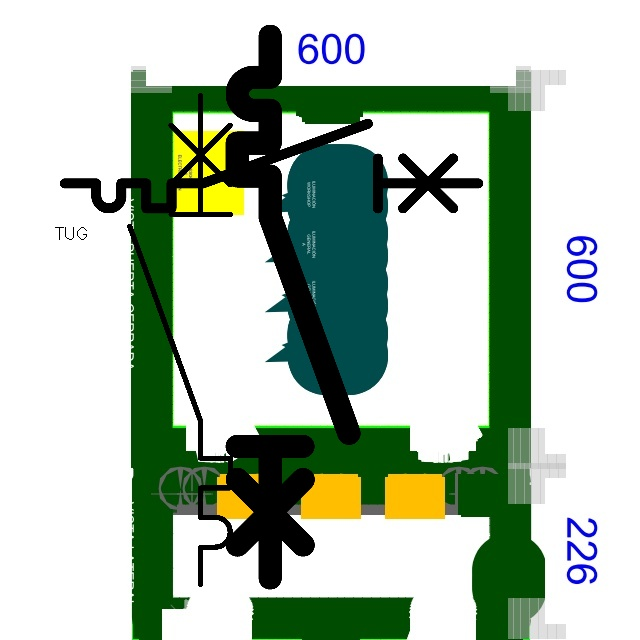interruptor_termomagnetico: (223, 22, 362, 592), (117, 83, 243, 597), (54, 113, 489, 219)
